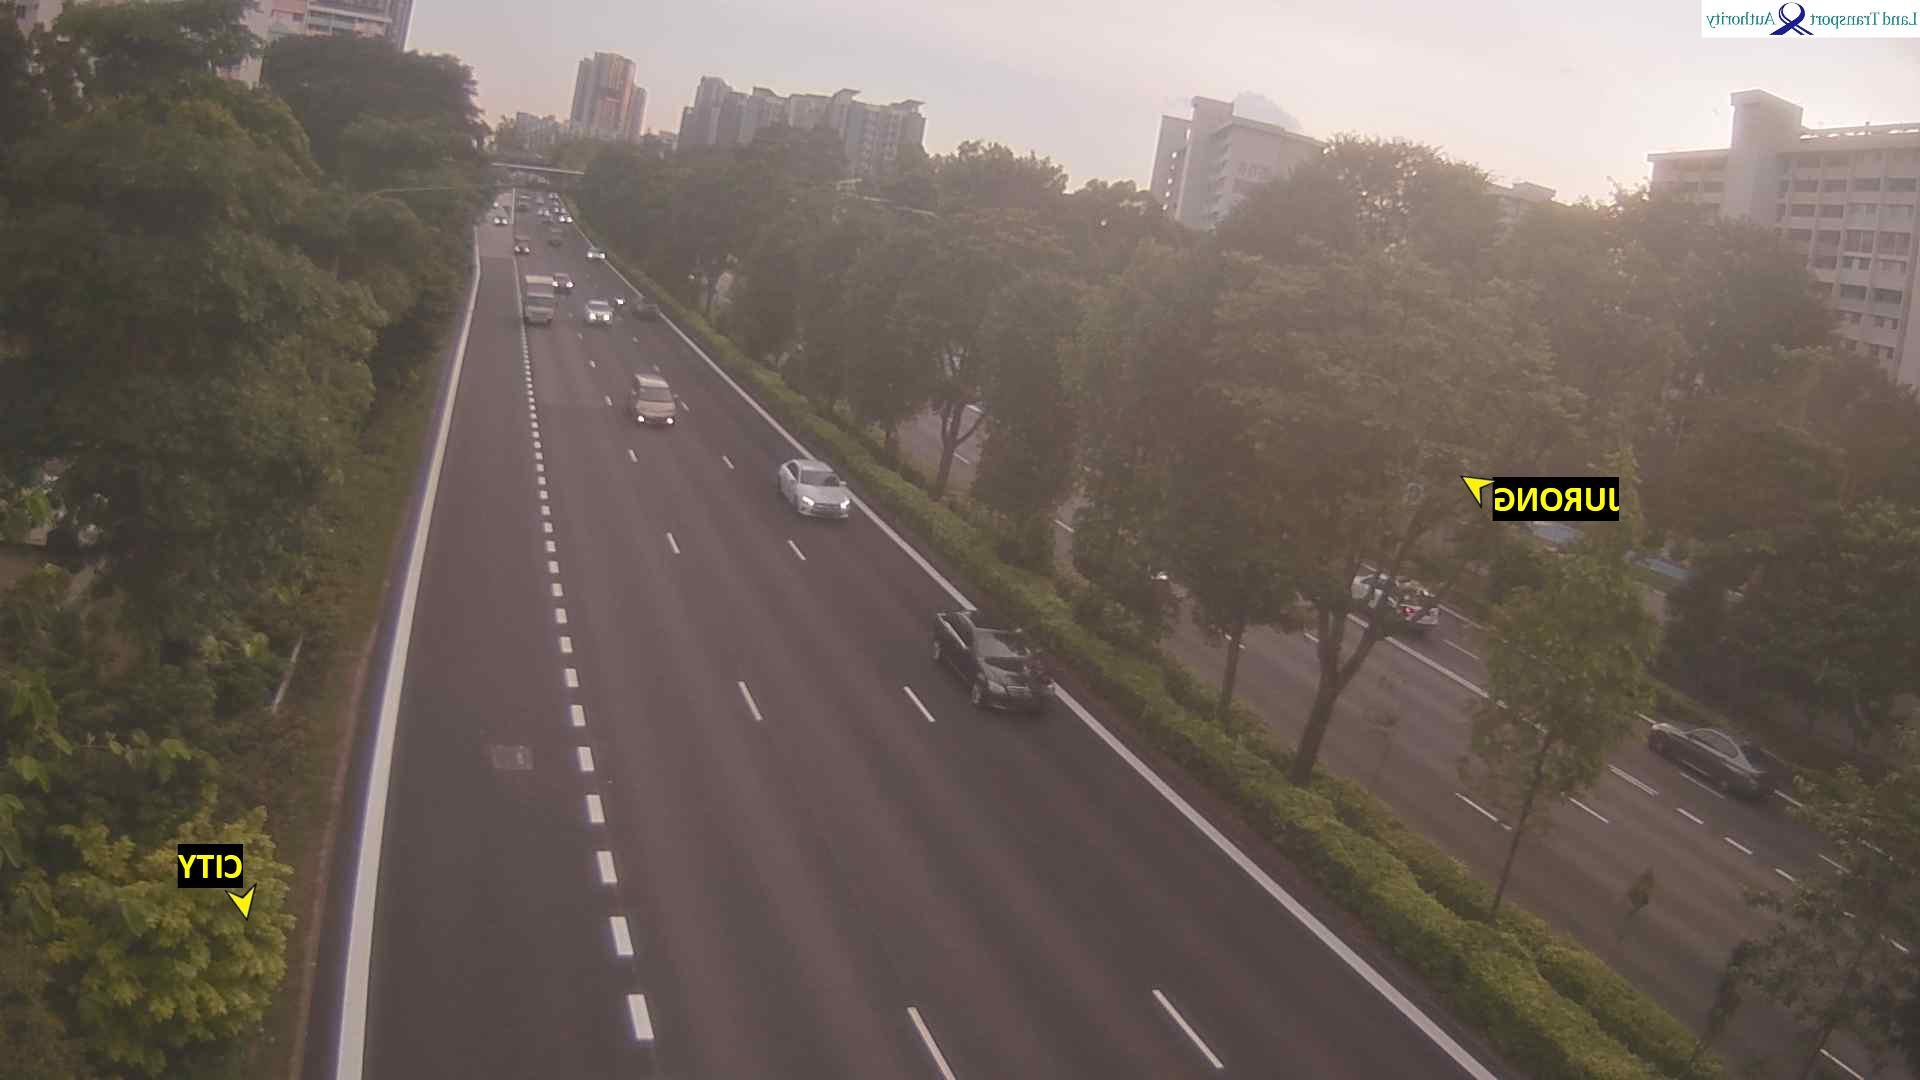incoming: (965, 624, 1060, 717), (791, 465, 857, 524), (631, 380, 684, 427), (520, 291, 559, 327), (589, 304, 617, 325), (550, 274, 574, 291), (584, 246, 607, 261), (512, 238, 530, 257)
